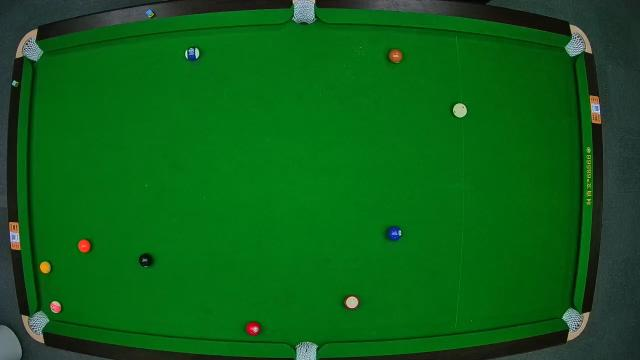bag1: (21, 37, 43, 63)
bag2: (293, 0, 317, 26)
bag3: (564, 27, 586, 59)
bag4: (27, 310, 49, 338)
bag5: (294, 342, 318, 360)
bag6: (561, 307, 585, 337)
ball0: (452, 103, 468, 119)
ball1: (40, 260, 52, 276)
ball10: (184, 46, 200, 62)
ball11: (344, 294, 360, 312)
ball12: (50, 301, 62, 315)
ball2: (386, 226, 402, 242)
ball3: (246, 320, 262, 336)
ball5: (78, 238, 92, 254)
ball7: (388, 48, 402, 64)
ball8: (138, 254, 154, 270)
